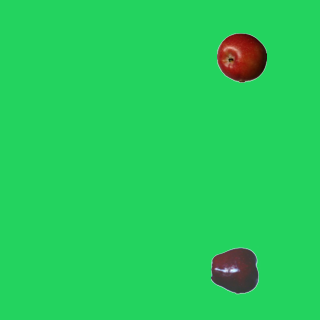Apple Braeburn: (216, 32, 266, 82)
Apple Red Delicious: (210, 245, 260, 295)
